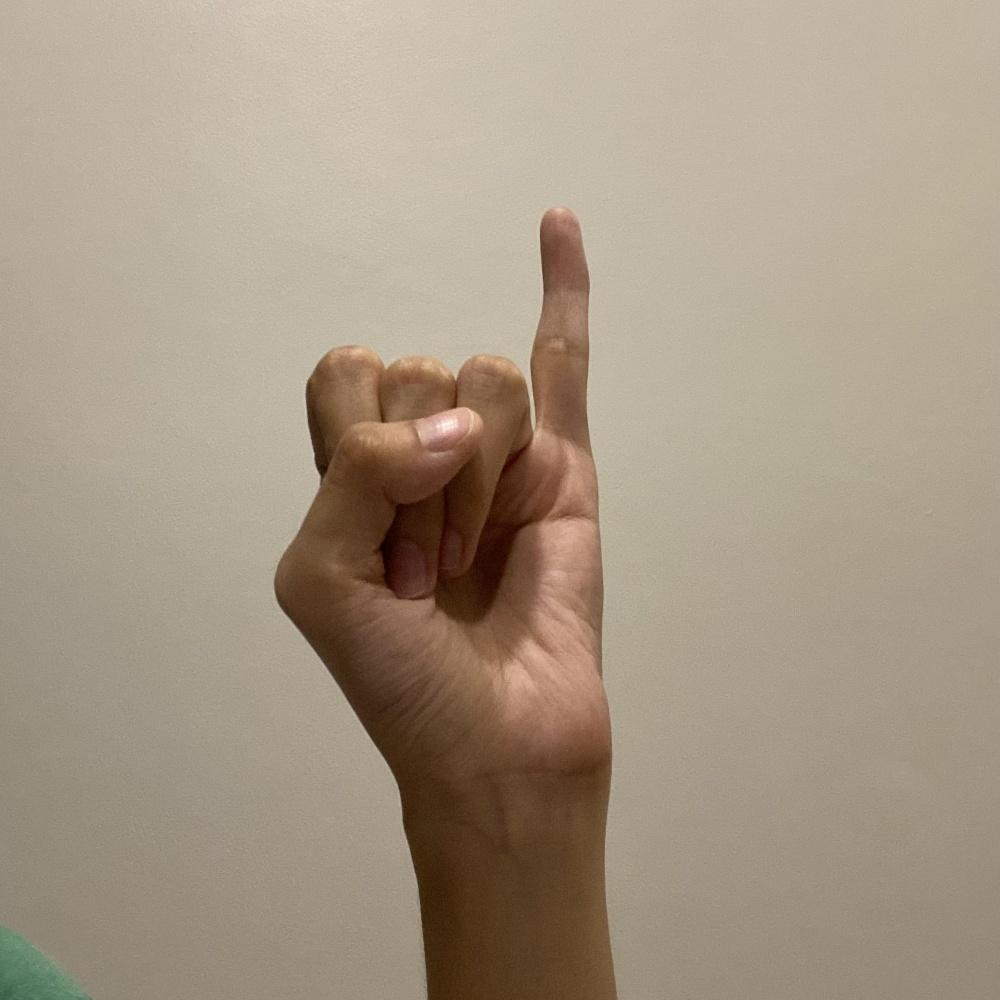i: (267, 201, 618, 785)
